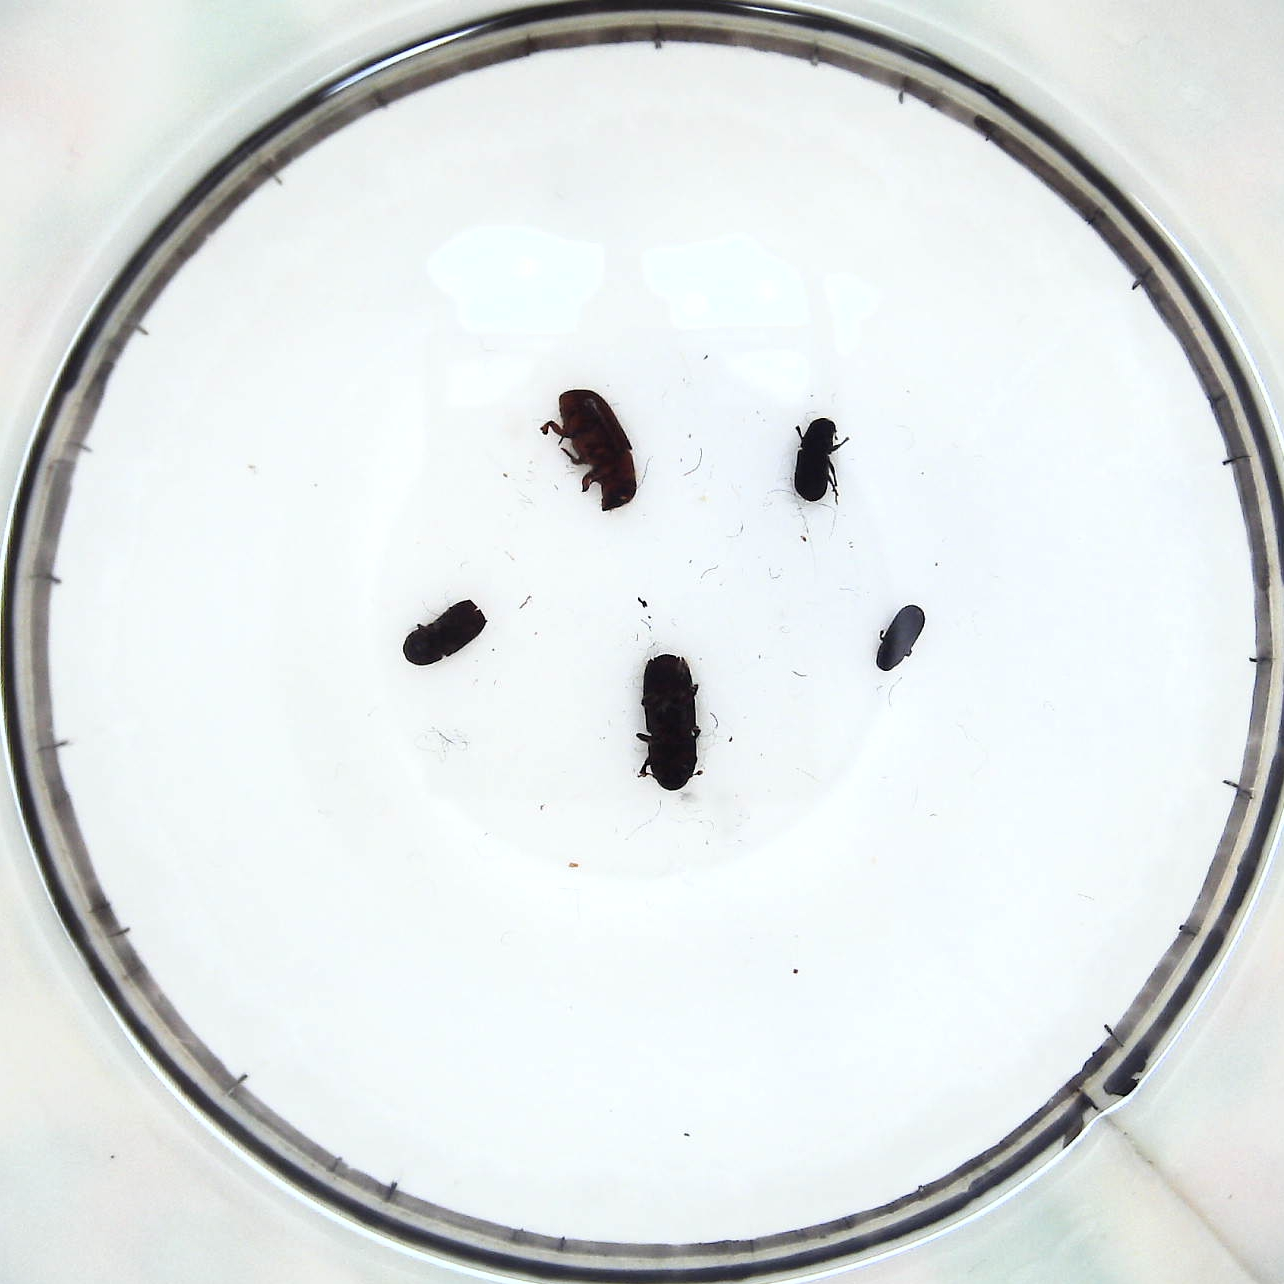Boerner: (637, 654, 707, 793)
Leconte: (555, 384, 644, 511)
Linnaeus: (397, 598, 488, 666)
armandi: (795, 415, 841, 500)
coleoptera: (874, 603, 927, 670)
